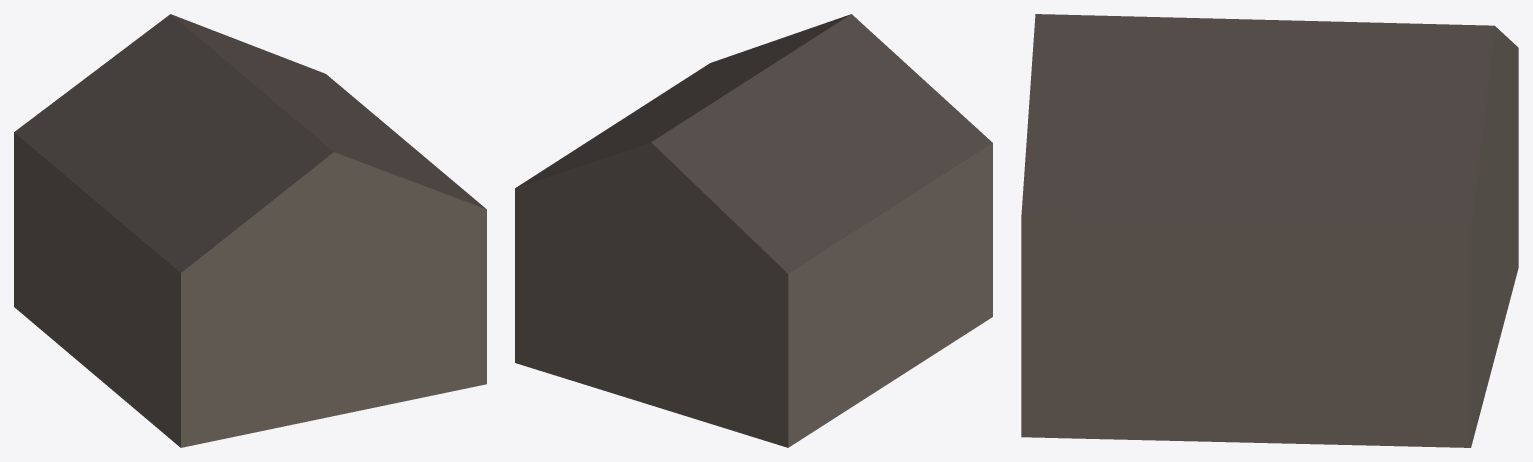
3 renders of one model, left to right at view 1: azimuth 30°, elevation 25°; view 2: azimuth 150°, elevation 25°; view 3: azimuth 270°, elevation 25°, orthographic. The views are drawn at different scales.
Visible parts, largest first — view 1: HP-w1515071100; view 2: HP-w1515071100; view 3: HP-w1515071100.
Boxes of the visible parts, x1,y1,x2,y2 form: HP-w1515071100: [14, 14, 486, 447]; HP-w1515071100: [515, 14, 992, 447]; HP-w1515071100: [1021, 14, 1518, 447].
Size of the model in its own units: 11.22 by 9.07 by 12.28.
